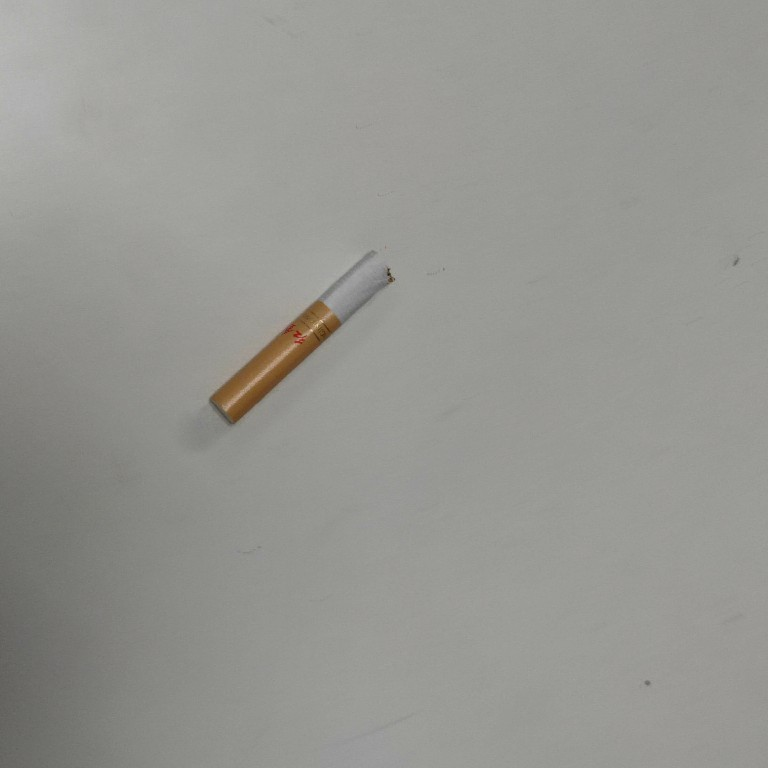cigarette: (207, 243, 398, 430)
